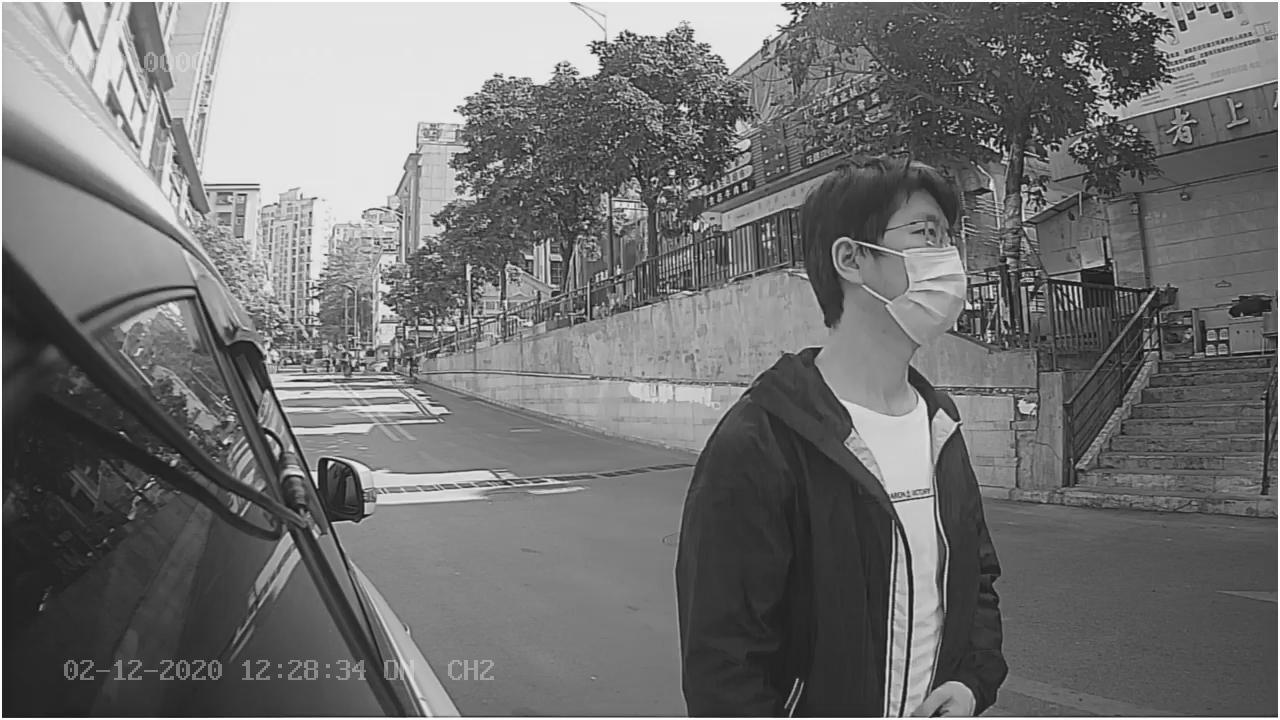person: (665, 149, 1023, 617)
